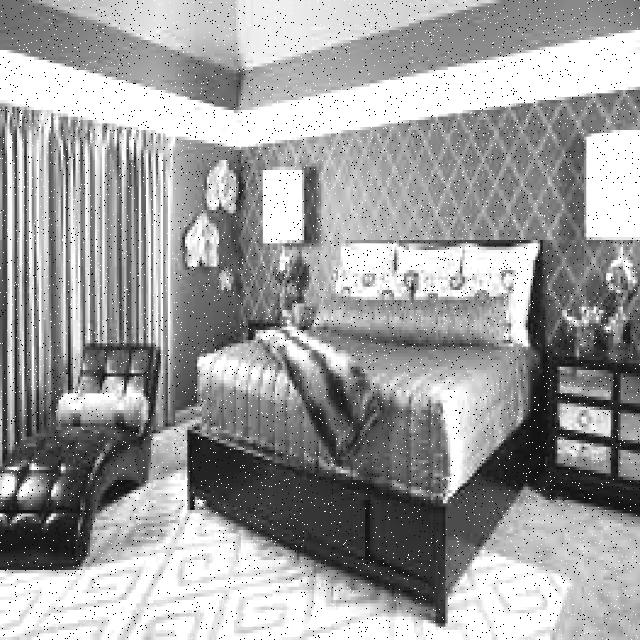bed: (192, 234, 546, 507)
